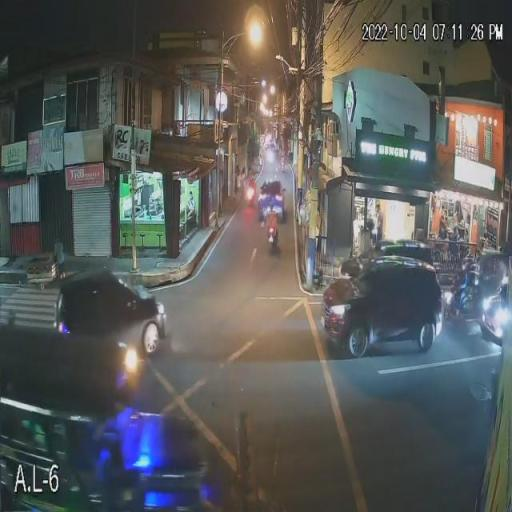helmet: (266, 194, 278, 209)
motorcycle: (265, 224, 280, 248)
rider: (264, 210, 280, 234)
